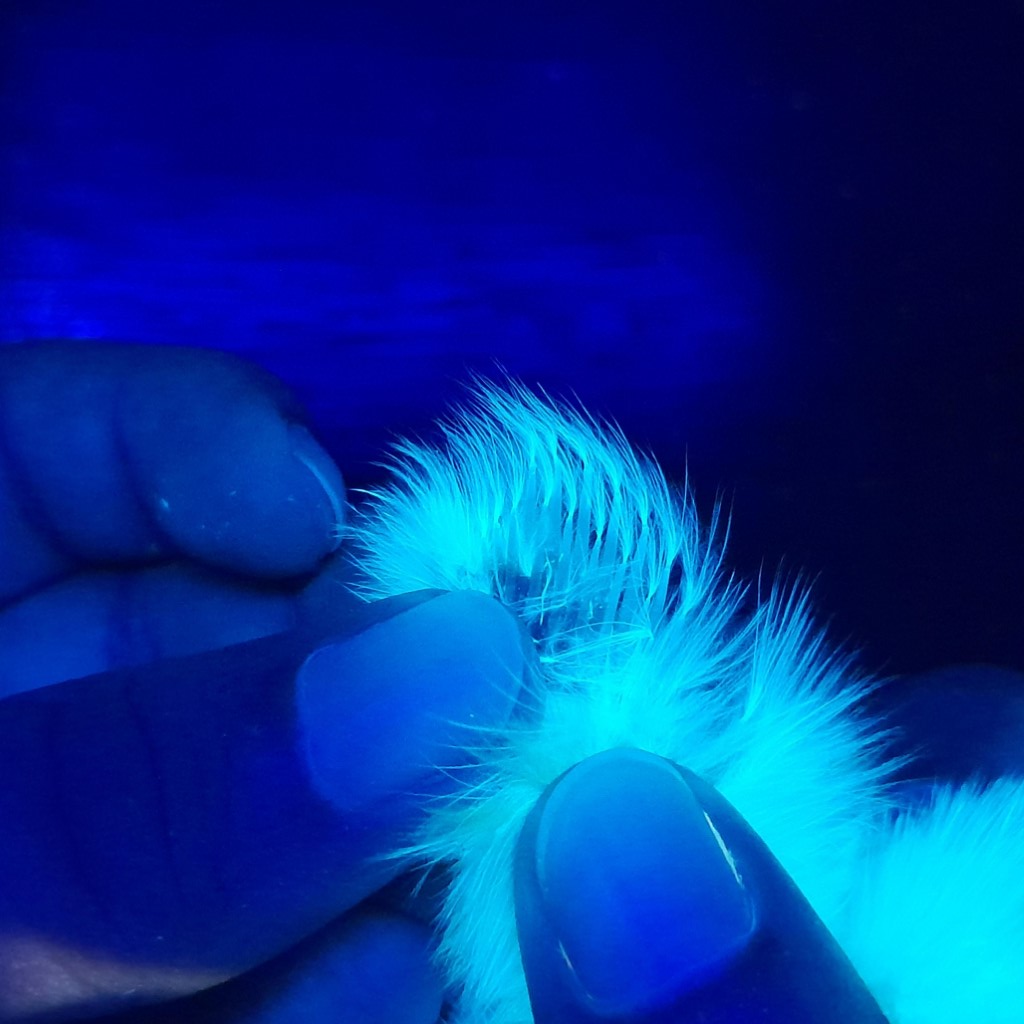female: (473, 464, 702, 695)
